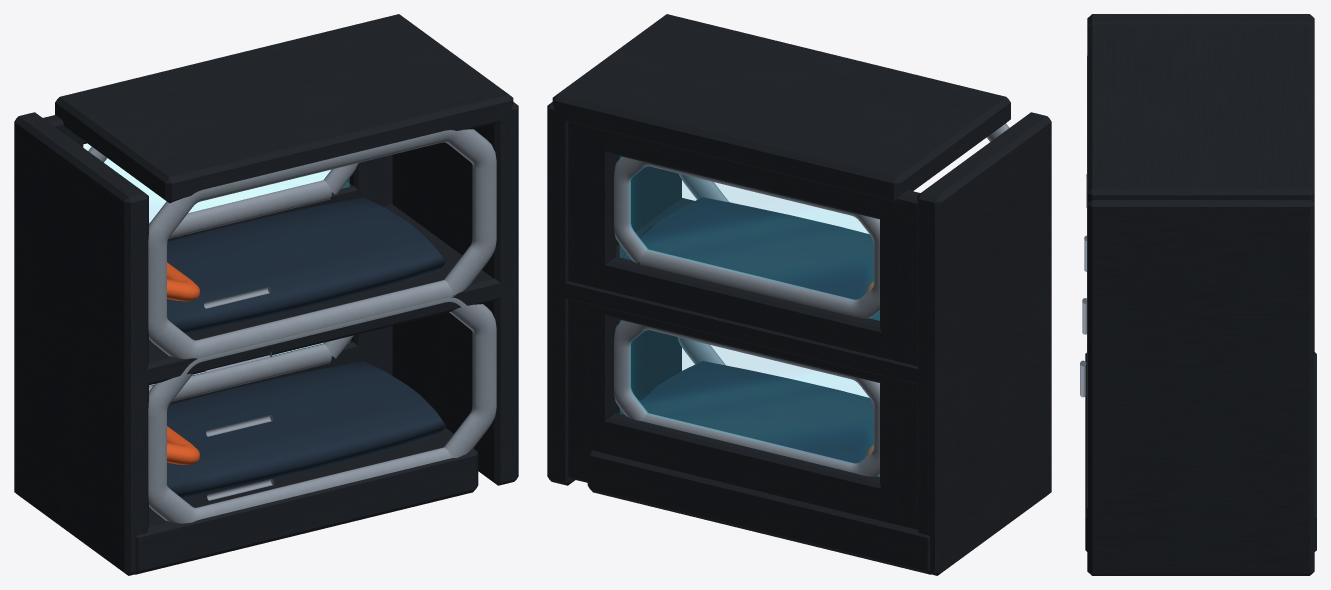
The model's file is bunk_r2_08.glb.
3 renders of one model, left to right at view 1: azimuth 30°, elevation 25°; view 2: azimuth 150°, elevation 25°; view 3: azimuth 270°, elevation 25°, orthographic.
Visible parts, largest first — view 1: HexHive_GunmetalHoneycombTubes, HexHive_DualCrewFlightCouches, HexHive_MachinedBezelsAndRungs, HexHive_DualTranslucentRearViewports, HexHive_SignalOrangeCradles; view 2: HexHive_GunmetalHoneycombTubes, HexHive_DualTranslucentRearViewports, HexHive_DualCrewFlightCouches, HexHive_MachinedBezelsAndRungs; view 3: HexHive_GunmetalHoneycombTubes, HexHive_MachinedBezelsAndRungs.
Boxes of the visible parts, x1,y1,x2,y2 form: HexHive_GunmetalHoneycombTubes: (14,14,518,575); HexHive_DualCrewFlightCouches: (167,197,446,498); HexHive_MachinedBezelsAndRungs: (88,129,496,523); HexHive_DualTranslucentRearViewports: (87,144,348,385); HexHive_SignalOrangeCradles: (167,262,200,464); HexHive_GunmetalHoneycombTubes: (547,14,1051,575); HexHive_DualTranslucentRearViewports: (620,156,879,476); HexHive_DualCrewFlightCouches: (622,197,879,476); HexHive_MachinedBezelsAndRungs: (614,123,1009,476); HexHive_GunmetalHoneycombTubes: (1085,14,1316,575); HexHive_MachinedBezelsAndRungs: (1080,56,1087,507).
Size of the model in its own units: 2.22 by 2.09 by 1.17.
Materials: 7 (7 with a texture image).
